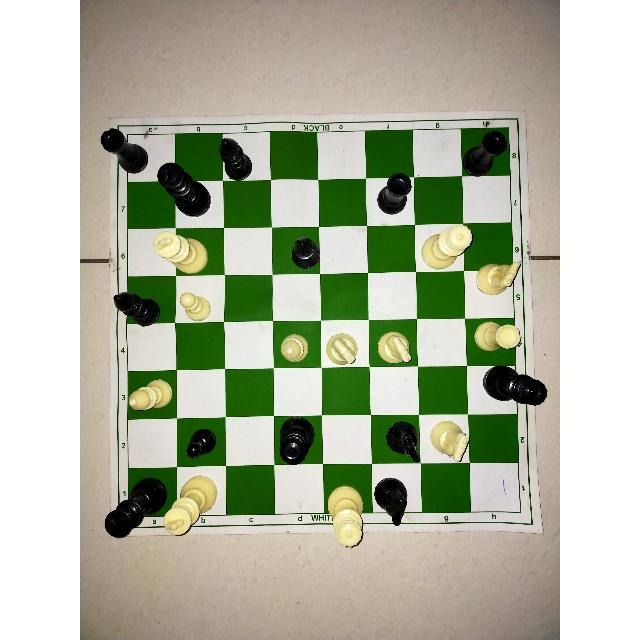black-bishop: (112, 286, 170, 329), (215, 133, 259, 183), (288, 234, 322, 274)
black-king: (102, 473, 167, 541), (156, 161, 212, 217)
black-knight: (371, 476, 410, 528), (383, 419, 422, 468)
black-pawn: (182, 421, 220, 463)
black-queen: (480, 359, 549, 409), (275, 414, 318, 466)
black-rook: (100, 128, 150, 175), (461, 129, 507, 178), (375, 168, 414, 219)
white-bishop: (125, 377, 175, 414), (280, 329, 312, 369)
white-king: (163, 472, 218, 540), (155, 228, 213, 274)
white-knight: (475, 250, 527, 298), (428, 415, 474, 463), (372, 329, 416, 367), (320, 331, 364, 367)
white-pawn: (179, 288, 213, 324)
white-queen: (418, 220, 476, 272), (325, 482, 365, 551)
white-rook: (471, 316, 522, 360)
